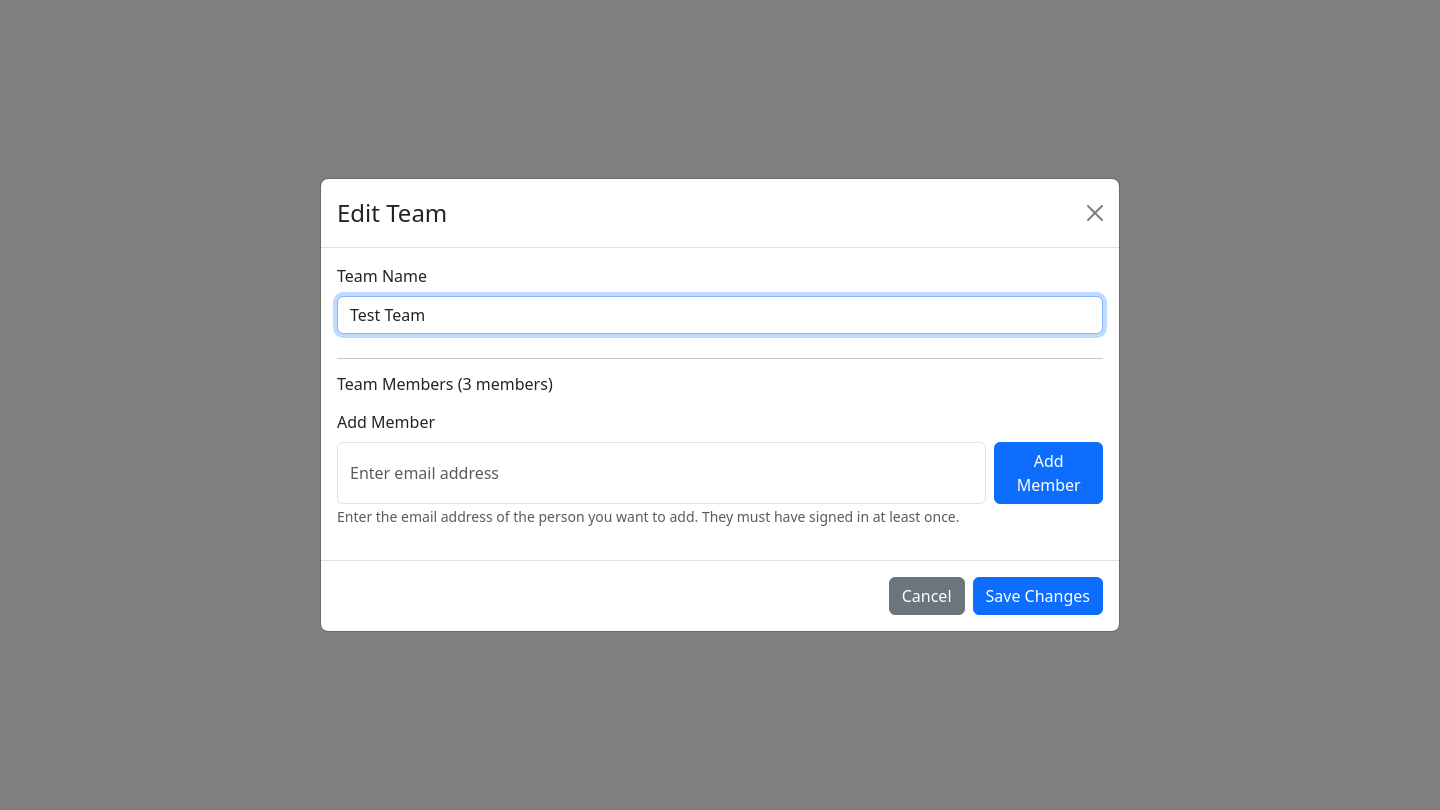
it: EditTeamModal › Team Name Editing › should show error when team name is empty
Expected: the heading "Team Members (3 members)" is shown, [337,373,553,395]
Clear the field labelled "Team Name" at {"x": 720, "y": 315}, box [337,296,1103,334]
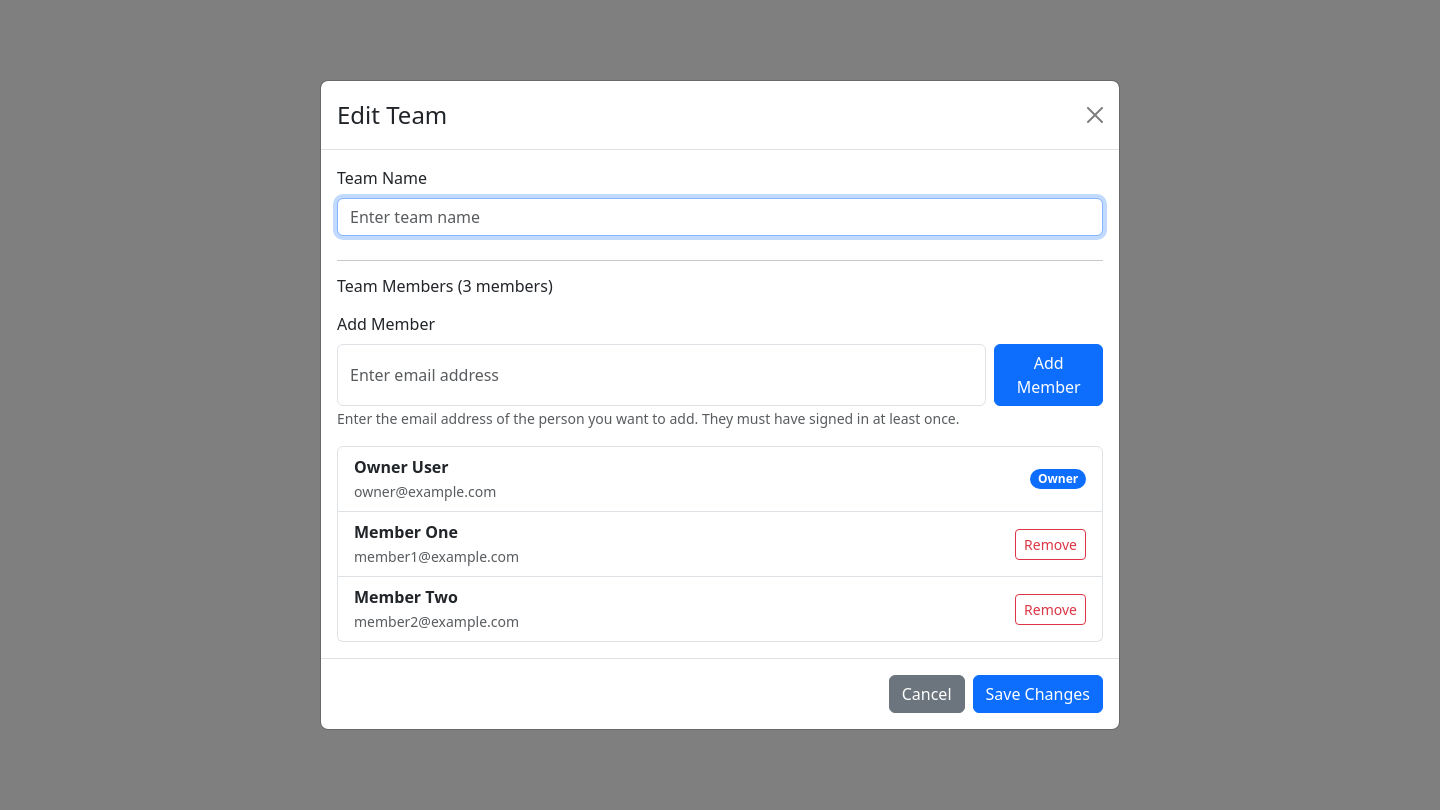
Click the button "Save Changes".
click(1038, 694)  # box [972,675,1103,713]
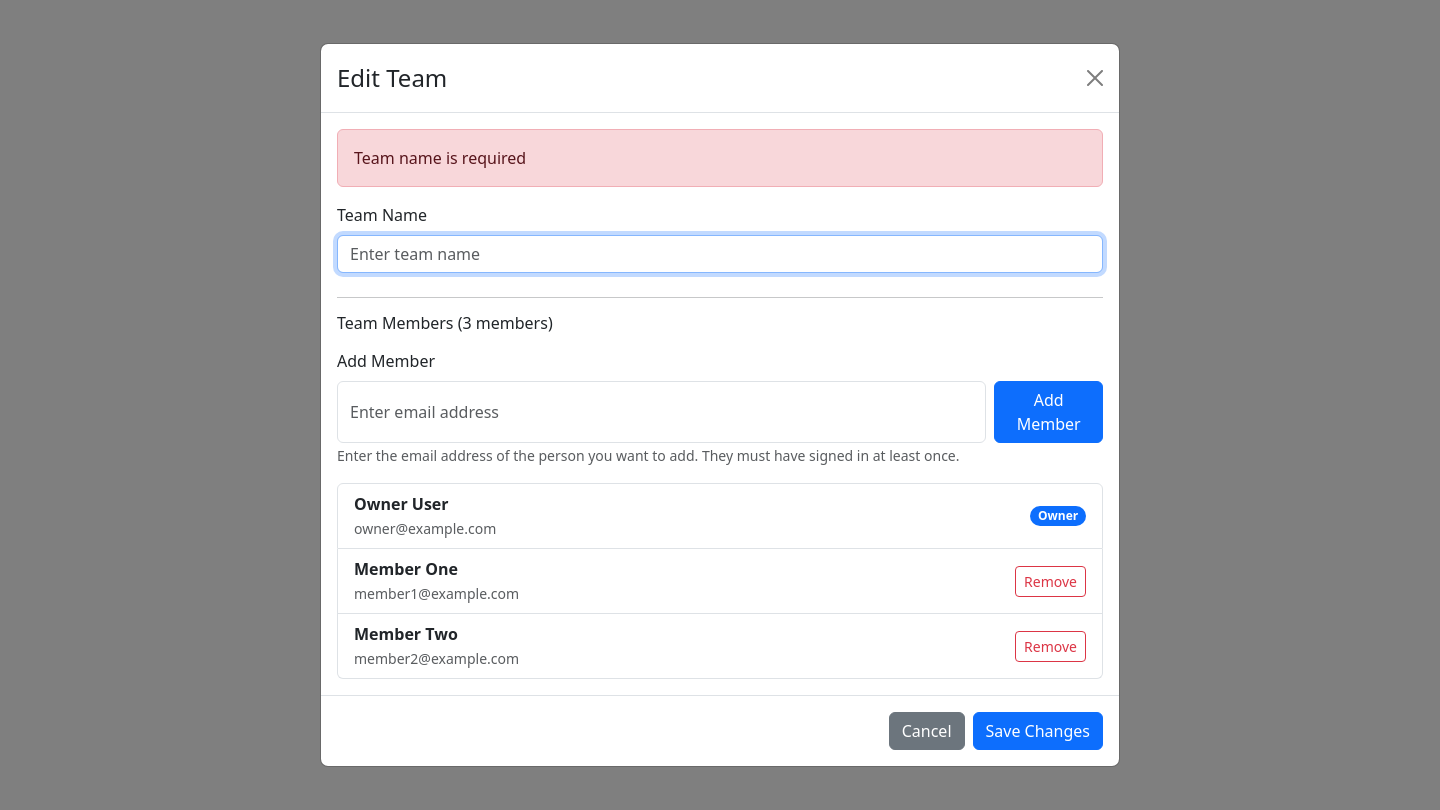
Expected: the text "Team name is required" is shown, [337,129,1103,187]
